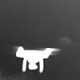plane: (13, 43, 61, 74)
